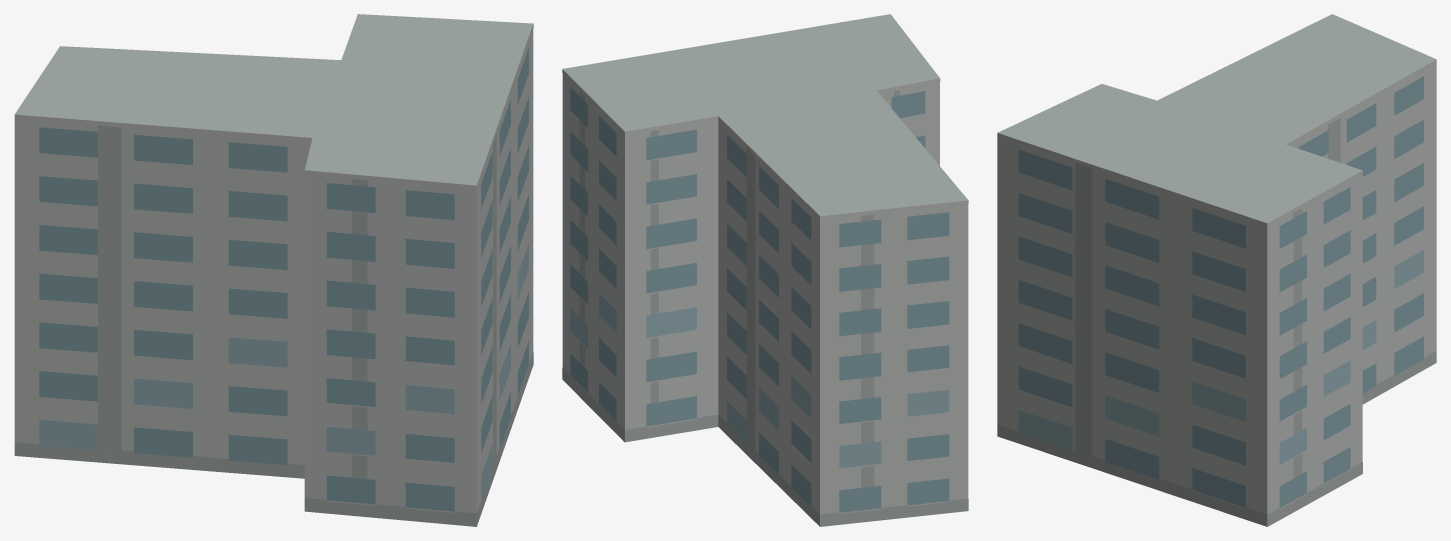
The model's file is survey-upis-32554106.glb.
3 views of the same model, side by side, from view 1: azimuth 30°, elevation 25°; view 2: azimuth 150°, elevation 25°; view 3: azimuth 270°, elevation 25° (orthographic). The views are drawn at different scales.
Visible parts, largest first — view 1: survey-upis-32554106.tmp; view 2: survey-upis-32554106.tmp; view 3: survey-upis-32554106.tmp.
Boxes of the visible parts, x1,y1,x2,y2 form: survey-upis-32554106.tmp: (14, 14, 533, 526); survey-upis-32554106.tmp: (562, 14, 968, 526); survey-upis-32554106.tmp: (997, 14, 1436, 526).
Bounding box in the file's own units: 27.52 × 18.6 × 24.41.
